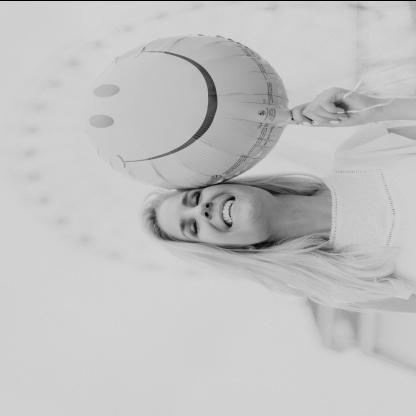Eye: (188, 218, 200, 235), (190, 189, 202, 205)
Mouth: (219, 194, 235, 228)
Nose: (190, 200, 212, 221)
